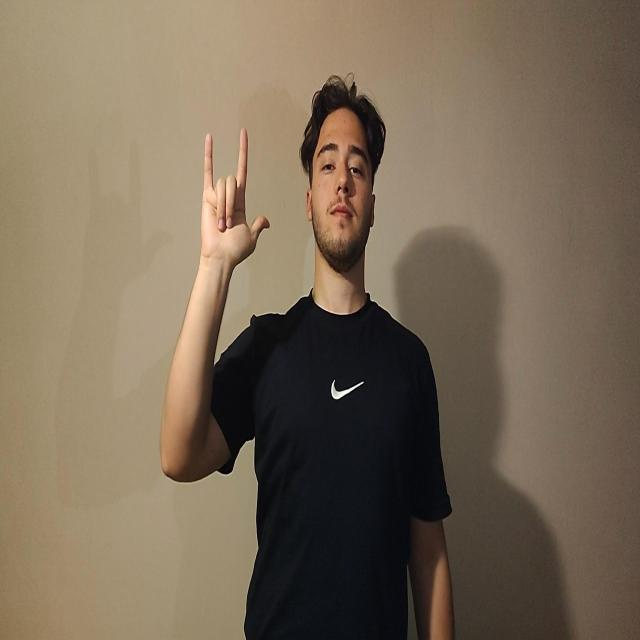iloveyou: (199, 126, 270, 270)
